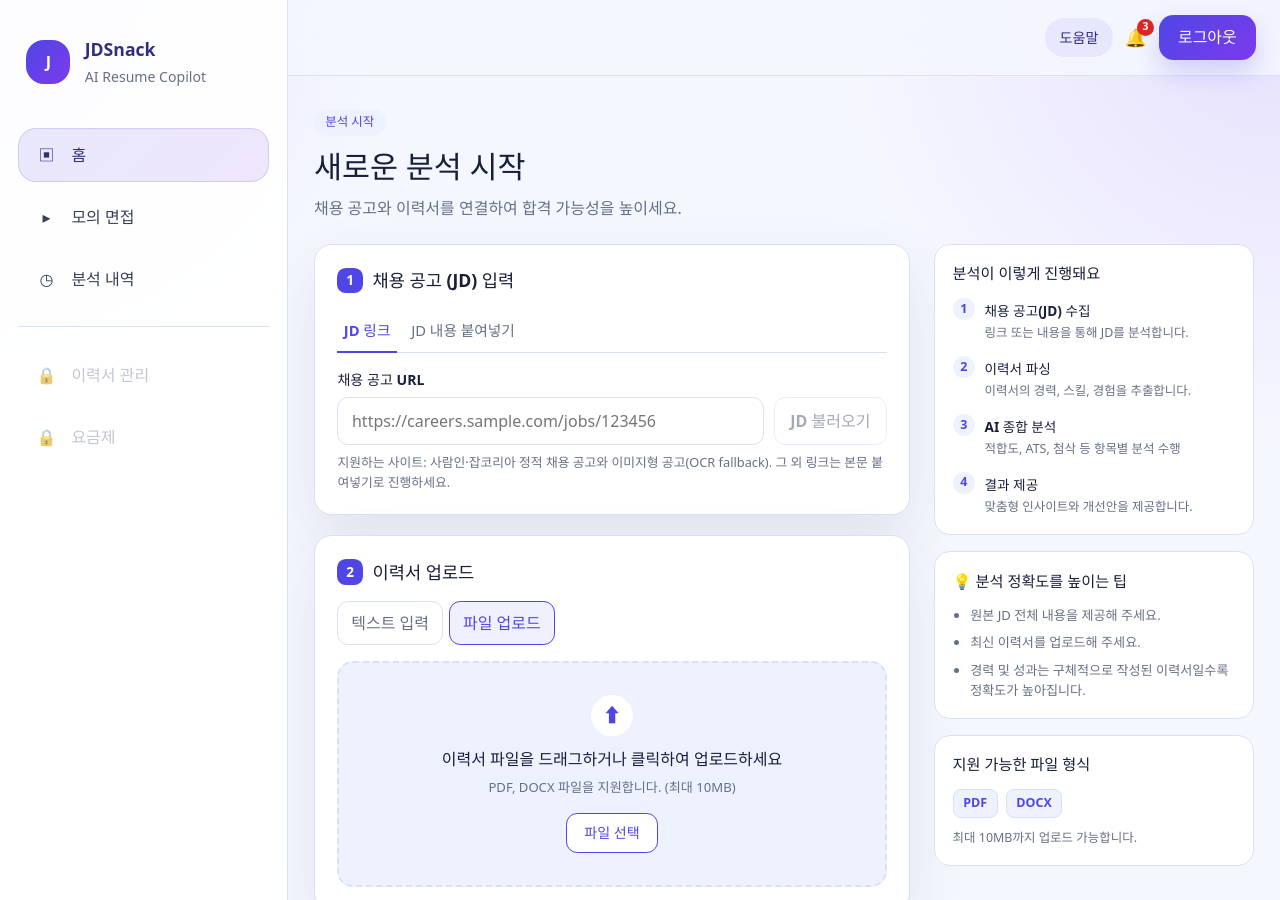
새로운 분석 시작 페이지 › 분석 내역 메뉴에서 최신 이력 목록을 불러온다
Expected: the heading "새로운 분석 시작" is shown, [314, 146, 526, 187]
Click the button "◷ 분석 내역" at point(144, 279), box [18, 251, 269, 306]
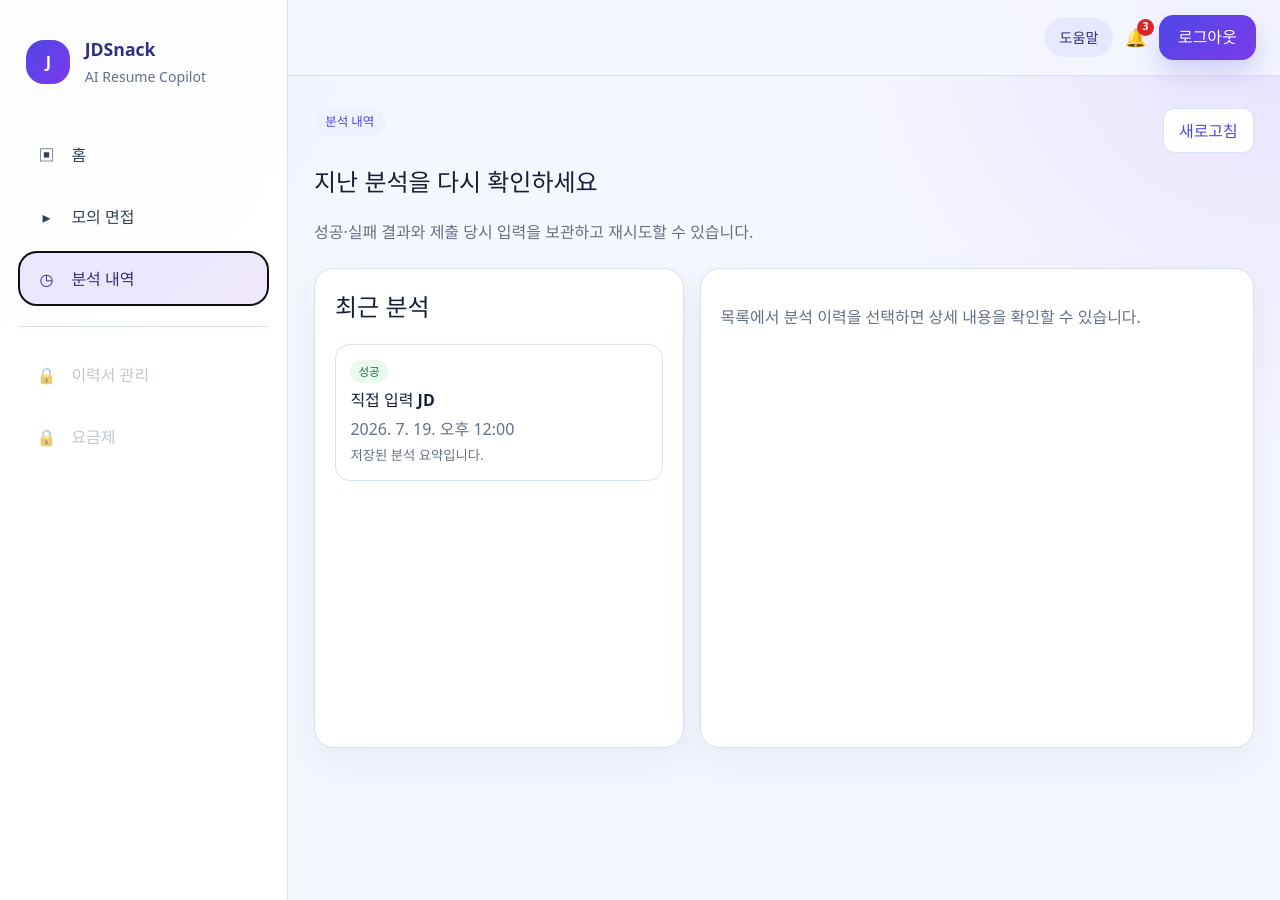
Result: the heading "지난 분석을 다시 확인하세요" is shown at [314, 165, 598, 198]
Result: the text "저장된 분석 요약입니다." is shown at [350, 446, 484, 464]
